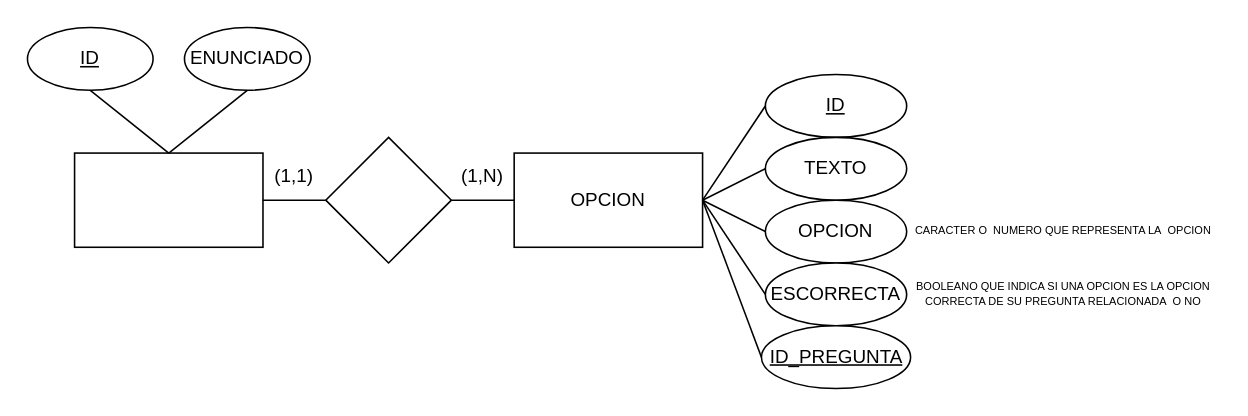
This 1248x416 diagram has some shape labels left out. The shapes that lost their labels are listed below. From the top down, each one's centre as x and y in pixels, then its label:
At point 168,199: "PREGUNTA".
At point 387,199: "TIENE".
